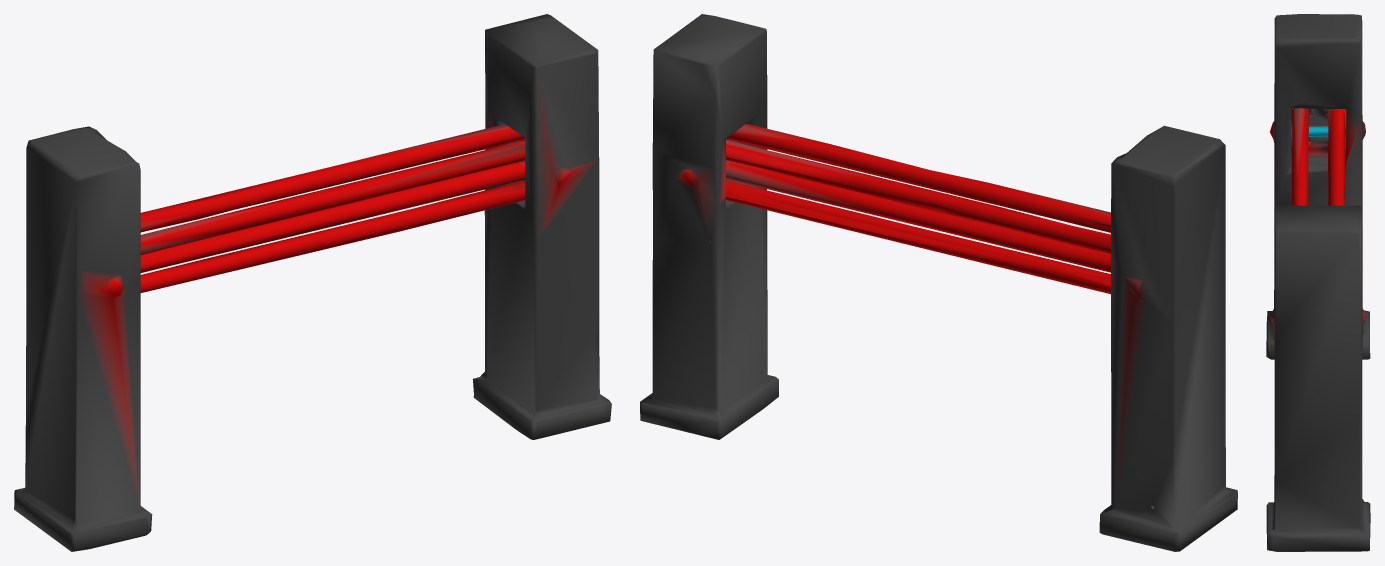
The model's file is gen3d-laser-gate-lod1.glb.
3 views of the same model, side by side, from view 1: azimuth 30°, elevation 25°; view 2: azimuth 150°, elevation 25°; view 3: azimuth 270°, elevation 25° (orthographic). The views are drawn at different scales.
Visible parts, largest first — view 1: part_0; view 2: part_0; view 3: part_0.
Part boxes in pixels (left/top/right/bottom): part_0: left=14, top=14, right=611, bottom=551; part_0: left=640, top=14, right=1237, bottom=551; part_0: left=1266, top=14, right=1370, bottom=551.
Size of the model in its own units: 1.52 by 0.9999 by 0.2967.
